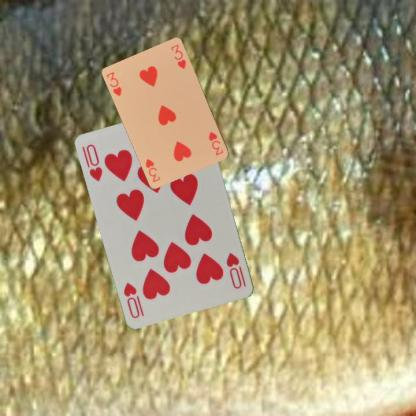10h: (84, 142, 104, 183), (224, 250, 243, 291)
3h: (104, 69, 123, 98), (206, 129, 225, 156)
